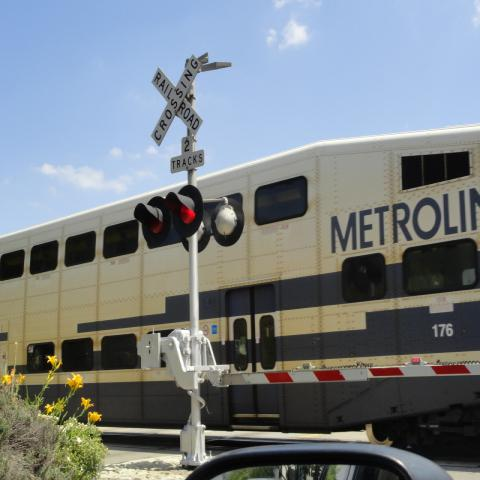car: (192, 440, 448, 474)
